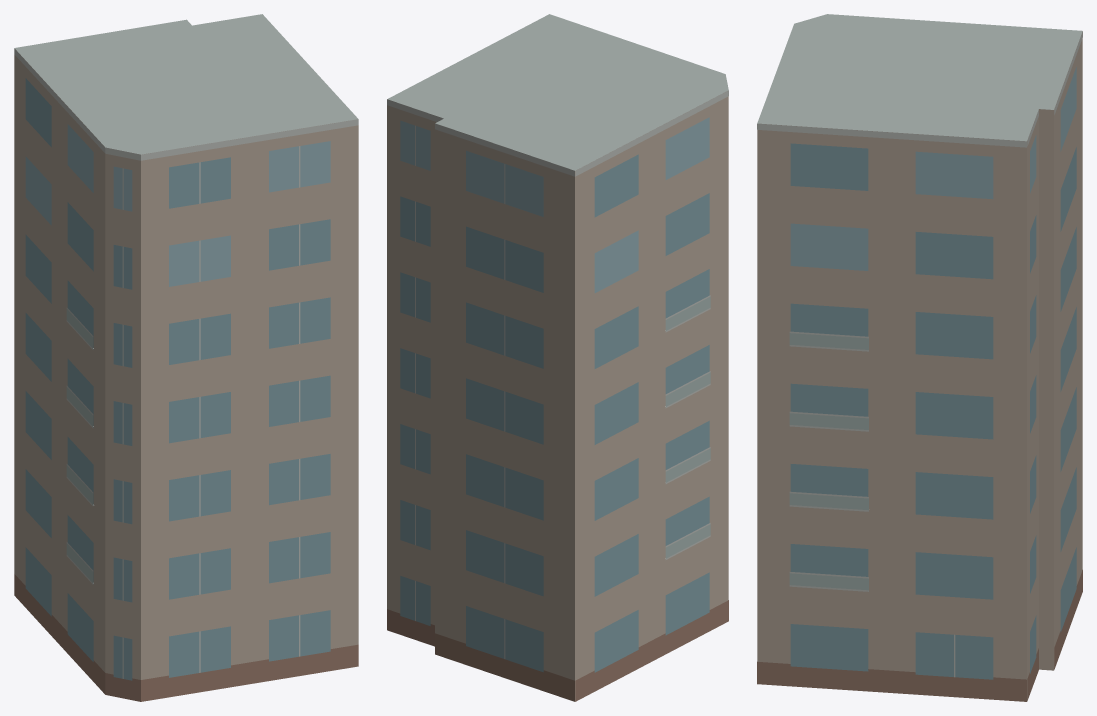
Rendered from survey-upis-32579357.glb.
3 views of the same model, side by side, from view 1: azimuth 30°, elevation 25°; view 2: azimuth 150°, elevation 25°; view 3: azimuth 270°, elevation 25° (orthographic). The views are drawn at different scales.
Visible parts, largest first — view 1: survey-upis-32579357.tmp; view 2: survey-upis-32579357.tmp; view 3: survey-upis-32579357.tmp.
Boxes of the visible parts, x1,y1,x2,y2 form: survey-upis-32579357.tmp: (14, 14, 358, 701); survey-upis-32579357.tmp: (387, 14, 728, 701); survey-upis-32579357.tmp: (757, 14, 1082, 701).
Bounding box in the file's own units: 10.53 × 21.6 × 11.38.
